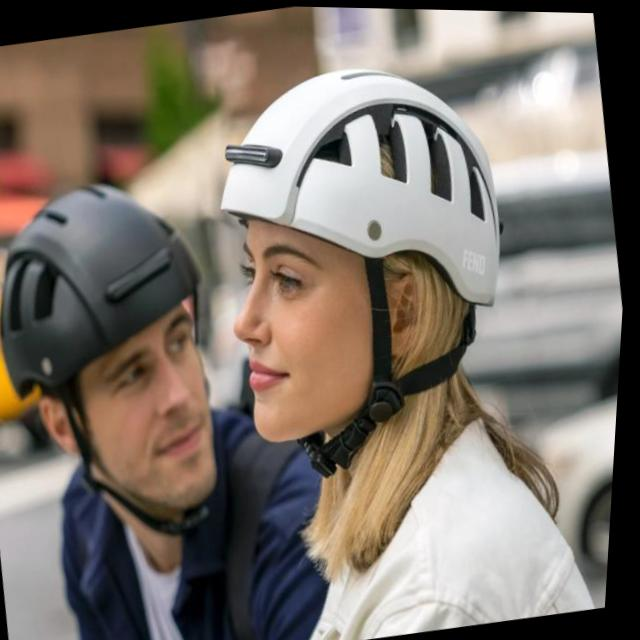helmet: (192, 36, 548, 494), (0, 160, 254, 561)
